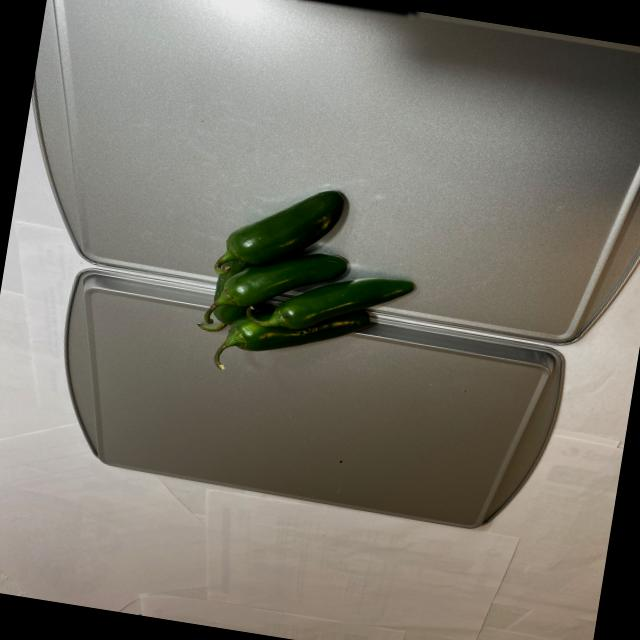chilli: (185, 170, 432, 406)
